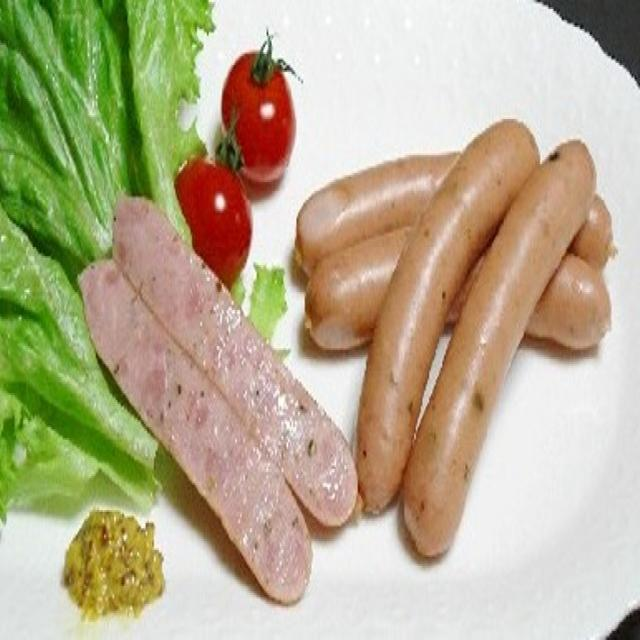Sausage: (291, 95, 640, 561)
Tomato: (172, 36, 294, 289)
